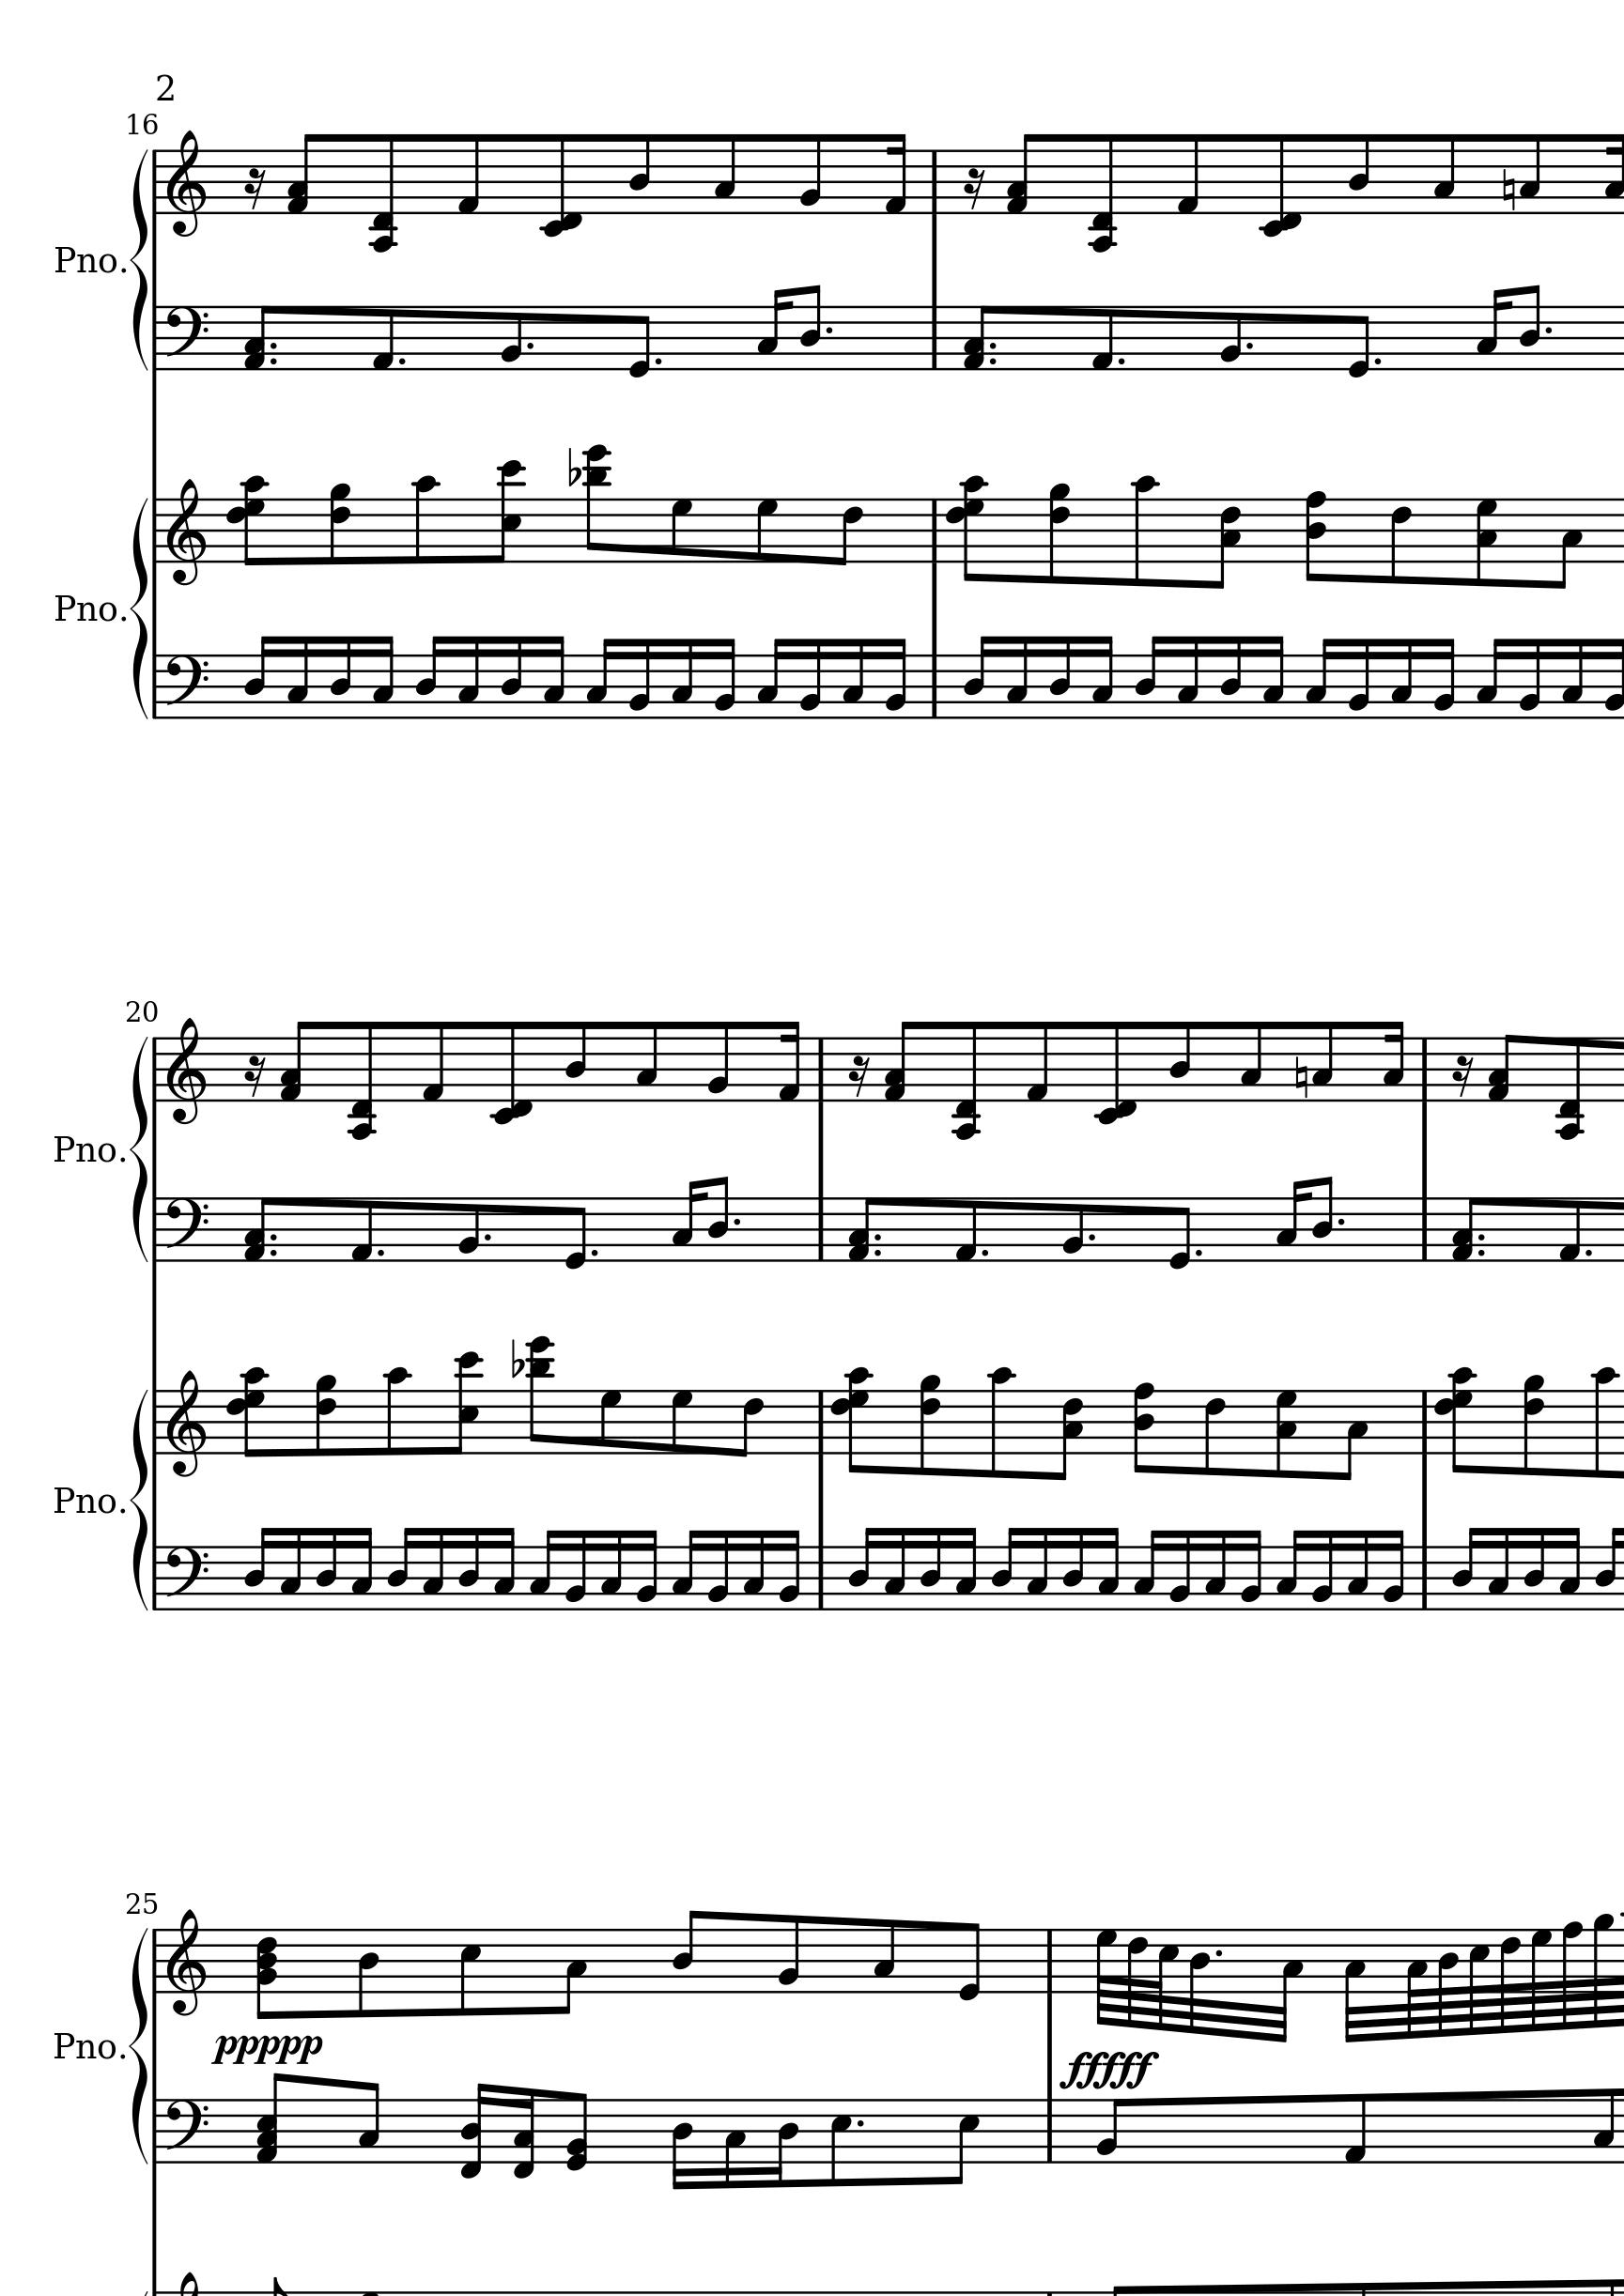0: (141, 998, 156, 1024)
1: (127, 111, 139, 137)
16_-1_3: (515, 2087, 536, 2178)
16_-1_4: (460, 2082, 490, 2180)
16_1: (882, 132, 907, 216), (775, 1019, 800, 1103)
16_2: (796, 636, 823, 722), (1345, 638, 1371, 722), (775, 1528, 801, 1611), (626, 638, 650, 722), (882, 638, 907, 722), (1431, 636, 1455, 720), (1517, 638, 1541, 722), (1380, 1528, 1404, 1613), (562, 1528, 587, 1611), (633, 1528, 657, 1611), (705, 1528, 729, 1611), (1167, 1528, 1192, 1611), (1237, 1528, 1262, 1611), (1309, 1528, 1334, 1611), (712, 636, 735, 720), (1603, 636, 1622, 720)
16_3: (754, 286, 793, 372), (1473, 286, 1510, 372), (670, 1177, 705, 1263), (1274, 1177, 1309, 1263), (582, 636, 615, 718), (754, 636, 786, 720), (1302, 636, 1334, 718), (1473, 636, 1504, 718), (1130, 1528, 1162, 1611), (527, 1528, 557, 1611), (670, 1528, 700, 1611), (1274, 1528, 1304, 1611), (455, 634, 482, 720), (1004, 634, 1030, 720), (722, 2097, 745, 2191), (285, 634, 309, 720), (369, 634, 394, 720), (540, 634, 564, 720), (1088, 634, 1113, 720), (1174, 634, 1199, 720), (840, 636, 865, 720), (278, 1527, 302, 1611), (348, 1527, 373, 1611), (420, 1527, 445, 1611), (490, 1527, 515, 1611), (882, 1527, 907, 1611), (953, 1527, 977, 1611), (1025, 1527, 1049, 1611), (1485, 1527, 1510, 1611), (1555, 1527, 1580, 1611), (670, 636, 694, 718), (1388, 636, 1413, 718), (1559, 636, 1584, 718), (598, 1528, 622, 1611), (740, 1528, 765, 1611), (1202, 1528, 1227, 1611), (1345, 1528, 1369, 1611), (1260, 634, 1283, 720), (1380, 1019, 1403, 1103), (1095, 1527, 1118, 1611), (1603, 132, 1622, 213)
16_4: (844, 1525, 877, 1613), (241, 632, 272, 720), (960, 632, 991, 720), (1132, 632, 1164, 720), (1448, 1525, 1480, 1611), (413, 632, 443, 720), (241, 1525, 271, 1611), (385, 1525, 415, 1611), (990, 1525, 1019, 1611), (1592, 1525, 1620, 1611), (1046, 634, 1072, 720), (670, 2097, 692, 2192), (499, 634, 524, 720), (313, 1525, 337, 1611), (917, 1525, 942, 1611), (1060, 1525, 1084, 1611), (329, 634, 352, 720), (1218, 634, 1241, 720), (457, 1525, 480, 1611), (1522, 1527, 1545, 1611)
2: (153, 72, 174, 102), (123, 998, 142, 1024), (125, 1890, 141, 1917)
32_3: (1274, 1925, 1302, 2043), (1343, 1925, 1366, 2045)
32_4: (1186, 1927, 1209, 2036)
5: (141, 1890, 158, 1917)
6: (141, 111, 158, 137)
64_3: (1404, 1925, 1427, 2040)
64_4: (1436, 1927, 1457, 2038)
64_5: (1151, 1927, 1178, 2031), (1466, 1927, 1489, 2034)
64_6: (1497, 1927, 1522, 2031), (1125, 1927, 1146, 2031)
64_7: (1531, 1927, 1554, 2032), (1093, 1925, 1116, 2029)
64_8: (1561, 1920, 1582, 2031)
64_9: (1592, 1911, 1615, 2031)
8_-2_-1: (489, 1019, 534, 1123), (538, 134, 584, 235), (1093, 1021, 1137, 1124), (1257, 134, 1301, 235)
8_-4_-1: (367, 132, 399, 253), (1086, 130, 1118, 251), (346, 1021, 376, 1140), (949, 1021, 979, 1140), (1554, 1036, 1585, 1140)
8_0: (954, 1920, 981, 2003), (1165, 1195, 1192, 1272), (626, 304, 652, 379), (1345, 304, 1371, 379), (562, 1195, 589, 1270)
8_0_2: (566, 2090, 589, 2171)
8_1: (453, 132, 480, 216), (1172, 132, 1199, 216), (418, 1021, 445, 1105), (1023, 1021, 1048, 1105), (1341, 2090, 1367, 2166), (951, 1195, 977, 1265), (367, 304, 394, 372), (1088, 304, 1114, 372), (348, 1195, 373, 1265), (1555, 1195, 1580, 1265)
8_10: (1589, 1365, 1620, 1481), (1128, 474, 1158, 588), (986, 1367, 1014, 1479), (411, 474, 439, 567), (383, 1365, 411, 1458)
8_11_14: (524, 1335, 555, 1456), (582, 444, 612, 566)
8_1_3: (285, 134, 320, 216), (1005, 132, 1040, 214), (882, 1021, 917, 1103), (278, 1021, 311, 1103), (241, 304, 278, 372), (960, 304, 997, 371), (1487, 1031, 1520, 1103), (847, 1195, 881, 1265), (1450, 1195, 1483, 1263), (243, 1193, 276, 1261)
8_2: (796, 132, 823, 216), (775, 1913, 801, 1996), (705, 1021, 729, 1105), (1095, 2097, 1125, 2164), (1060, 1196, 1084, 1265), (457, 1196, 480, 1265), (499, 306, 522, 372), (1218, 306, 1241, 372)
8_3: (554, 1925, 589, 2017), (1334, 1388, 1367, 1483), (1550, 495, 1582, 590), (1431, 132, 1455, 216), (633, 1021, 657, 1105), (1237, 1021, 1262, 1103), (870, 1917, 895, 1996), (712, 132, 735, 216), (357, 2080, 380, 2164), (1591, 2087, 1615, 2164), (1519, 132, 1541, 214), (1311, 1021, 1332, 1103)
8_3_6: (1209, 497, 1241, 590), (1055, 1388, 1083, 1483)
8_3_7: (1276, 1388, 1299, 1479), (1476, 495, 1497, 590)
8_4: (670, 1908, 703, 1996), (768, 2097, 798, 2191), (357, 1927, 380, 2020), (798, 283, 821, 372), (626, 132, 650, 214), (1346, 132, 1371, 214), (562, 1021, 587, 1103), (1167, 1021, 1192, 1103), (1519, 283, 1540, 372), (707, 1175, 728, 1263), (1311, 1175, 1330, 1261)
8_4_8: (1304, 490, 1329, 583), (1134, 1381, 1156, 1474)
8_5: (947, 2097, 981, 2189), (828, 2097, 852, 2191), (457, 1927, 482, 2018)
8_5_12: (446, 1351, 482, 1456), (494, 458, 526, 564)
8_6: (830, 495, 863, 567), (731, 1388, 763, 1460), (1387, 495, 1411, 587), (1202, 1388, 1225, 1479)
8_6_9: (1048, 481, 1070, 585), (919, 1374, 942, 1476), (1524, 1374, 1545, 1477), (315, 1374, 337, 1458), (329, 483, 352, 564)
8_7: (598, 1388, 620, 1456), (670, 1388, 692, 1456), (670, 497, 692, 564), (754, 497, 777, 564)
8_th: (942, 474, 991, 583), (831, 1368, 875, 1477), (221, 473, 269, 567), (1436, 1367, 1476, 1470), (223, 1363, 267, 1458), (253, 2073, 285, 2166), (253, 1929, 278, 2025)
Brace: (130, 1922, 149, 2168), (128, 1031, 148, 1268), (130, 499, 149, 726), (128, 151, 148, 369), (130, 1391, 148, 1609)
Fclef: (162, 1541, 209, 1611), (162, 650, 211, 717), (162, 304, 209, 372), (162, 2097, 209, 2166), (163, 1195, 209, 1263)
Flat: (562, 444, 580, 490), (508, 1337, 524, 1381)
Gclef: (163, 1908, 207, 2017), (165, 128, 207, 237), (165, 478, 207, 587), (163, 1015, 206, 1124), (165, 1368, 207, 1477)
Natural: (1497, 165, 1517, 214), (1290, 1054, 1308, 1101)
Pno: (51, 1483, 116, 1520), (49, 2029, 116, 2064), (53, 242, 116, 279), (51, 1133, 116, 1168), (53, 592, 116, 627)
Rests16: (961, 165, 986, 213), (845, 1052, 870, 1100), (243, 165, 265, 213), (243, 1052, 265, 1098), (1450, 1052, 1473, 1098)
Single_barline: (923, 499, 946, 564), (1413, 1391, 1436, 1455), (923, 151, 944, 214), (924, 306, 946, 369), (923, 655, 944, 718), (1413, 1040, 1434, 1103), (1413, 1198, 1434, 1261), (810, 1391, 831, 1455), (1413, 1546, 1434, 1609), (810, 1546, 830, 1611), (810, 1038, 830, 1101), (810, 1198, 830, 1261), (1039, 1931, 1058, 1994), (1039, 2099, 1058, 2162), (148, 306, 165, 371), (148, 1198, 165, 1263), (148, 2099, 165, 2164), (148, 1038, 163, 1103), (148, 1390, 163, 1455), (148, 1929, 163, 1994), (148, 151, 163, 214), (148, 499, 163, 562), (148, 655, 163, 718), (148, 1546, 162, 1611)
dot: (1369, 351, 1385, 371), (986, 341, 998, 365), (1241, 337, 1257, 355), (267, 1230, 279, 1251), (650, 353, 664, 371), (1114, 353, 1128, 371), (1084, 1230, 1098, 1247), (729, 1214, 743, 1230), (480, 1230, 494, 1245), (977, 1245, 991, 1261), (1192, 1245, 1206, 1261), (1580, 1245, 1594, 1261), (524, 337, 536, 355), (823, 323, 837, 337), (870, 1231, 884, 1245), (870, 1245, 884, 1260), (852, 2117, 866, 2131), (587, 1245, 599, 1261), (1541, 323, 1554, 337), (986, 339, 998, 353), (986, 355, 998, 369), (1334, 1216, 1346, 1230), (1475, 1231, 1487, 1245), (374, 1245, 387, 1260), (1475, 1245, 1487, 1260), (1211, 1946, 1223, 1960), (267, 1231, 279, 1244), (395, 355, 406, 369), (267, 341, 279, 351), (267, 357, 279, 367), (267, 1247, 279, 1258)
fffff: (1060, 2047, 1160, 2094)
ppppp: (209, 2031, 323, 2066)
